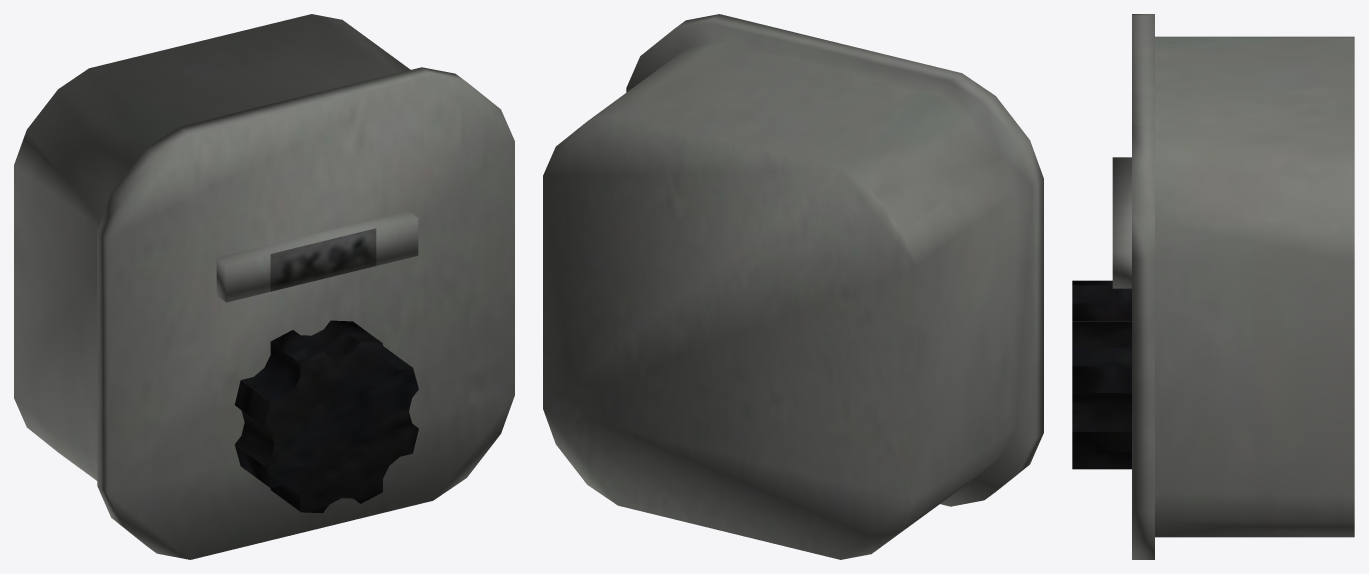
Rendered from SoundPoweredPhoneJack.obj.
3 renders of one model, left to right at view 1: azimuth 30°, elevation 25°; view 2: azimuth 150°, elevation 25°; view 3: azimuth 270°, elevation 25°, orthographic.
Visible parts, largest first — view 1: SoundPoweredPhoneJack.obj; view 2: SoundPoweredPhoneJack.obj; view 3: SoundPoweredPhoneJack.obj.
Boxes of the visible parts, x1,y1,x2,y2 form: SoundPoweredPhoneJack.obj: (14, 14, 514, 559); SoundPoweredPhoneJack.obj: (543, 14, 1043, 559); SoundPoweredPhoneJack.obj: (1072, 14, 1354, 559).
Bounding box in the file's own units: 1.31 × 1.31 × 0.7916.
